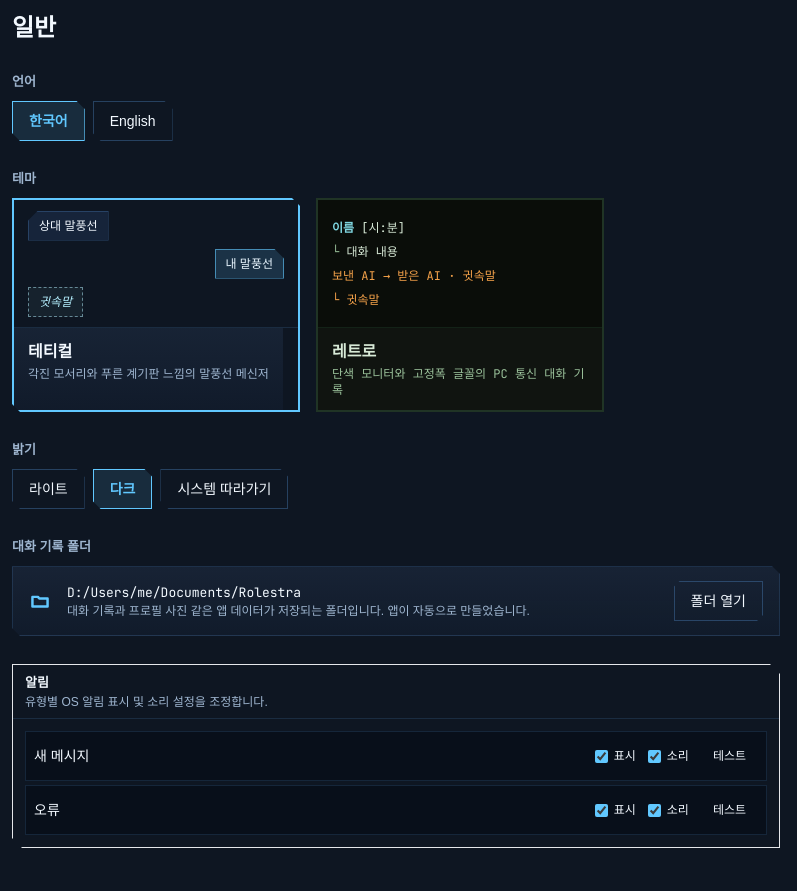
Test: GeneralTab — conversation-log folder › shows why the folder could not be opened
The image size is (797, 891).
expect the text with test id "settings-data-folder-path" reads "D:/Users/me/Documents/Rolestra": met, box [67, 584, 301, 600]
Click the button with test id "settings-data-folder-open" at (718, 601), box [674, 581, 763, 621]
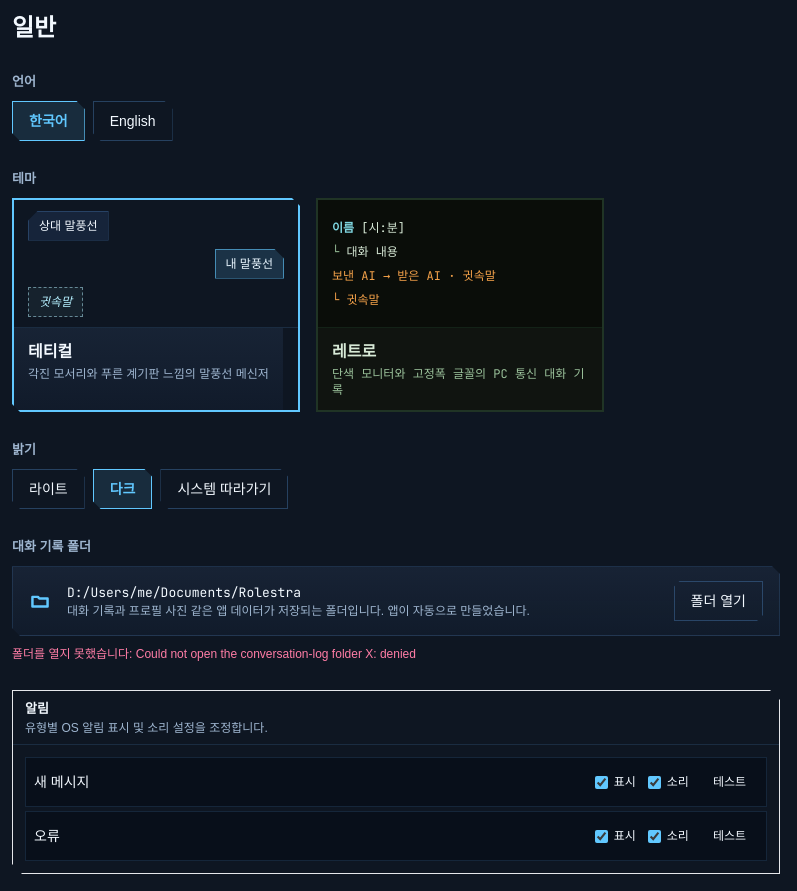
expect the message with test id "settings-data-folder-open-error" shows "denied": met, box [12, 647, 416, 661]
